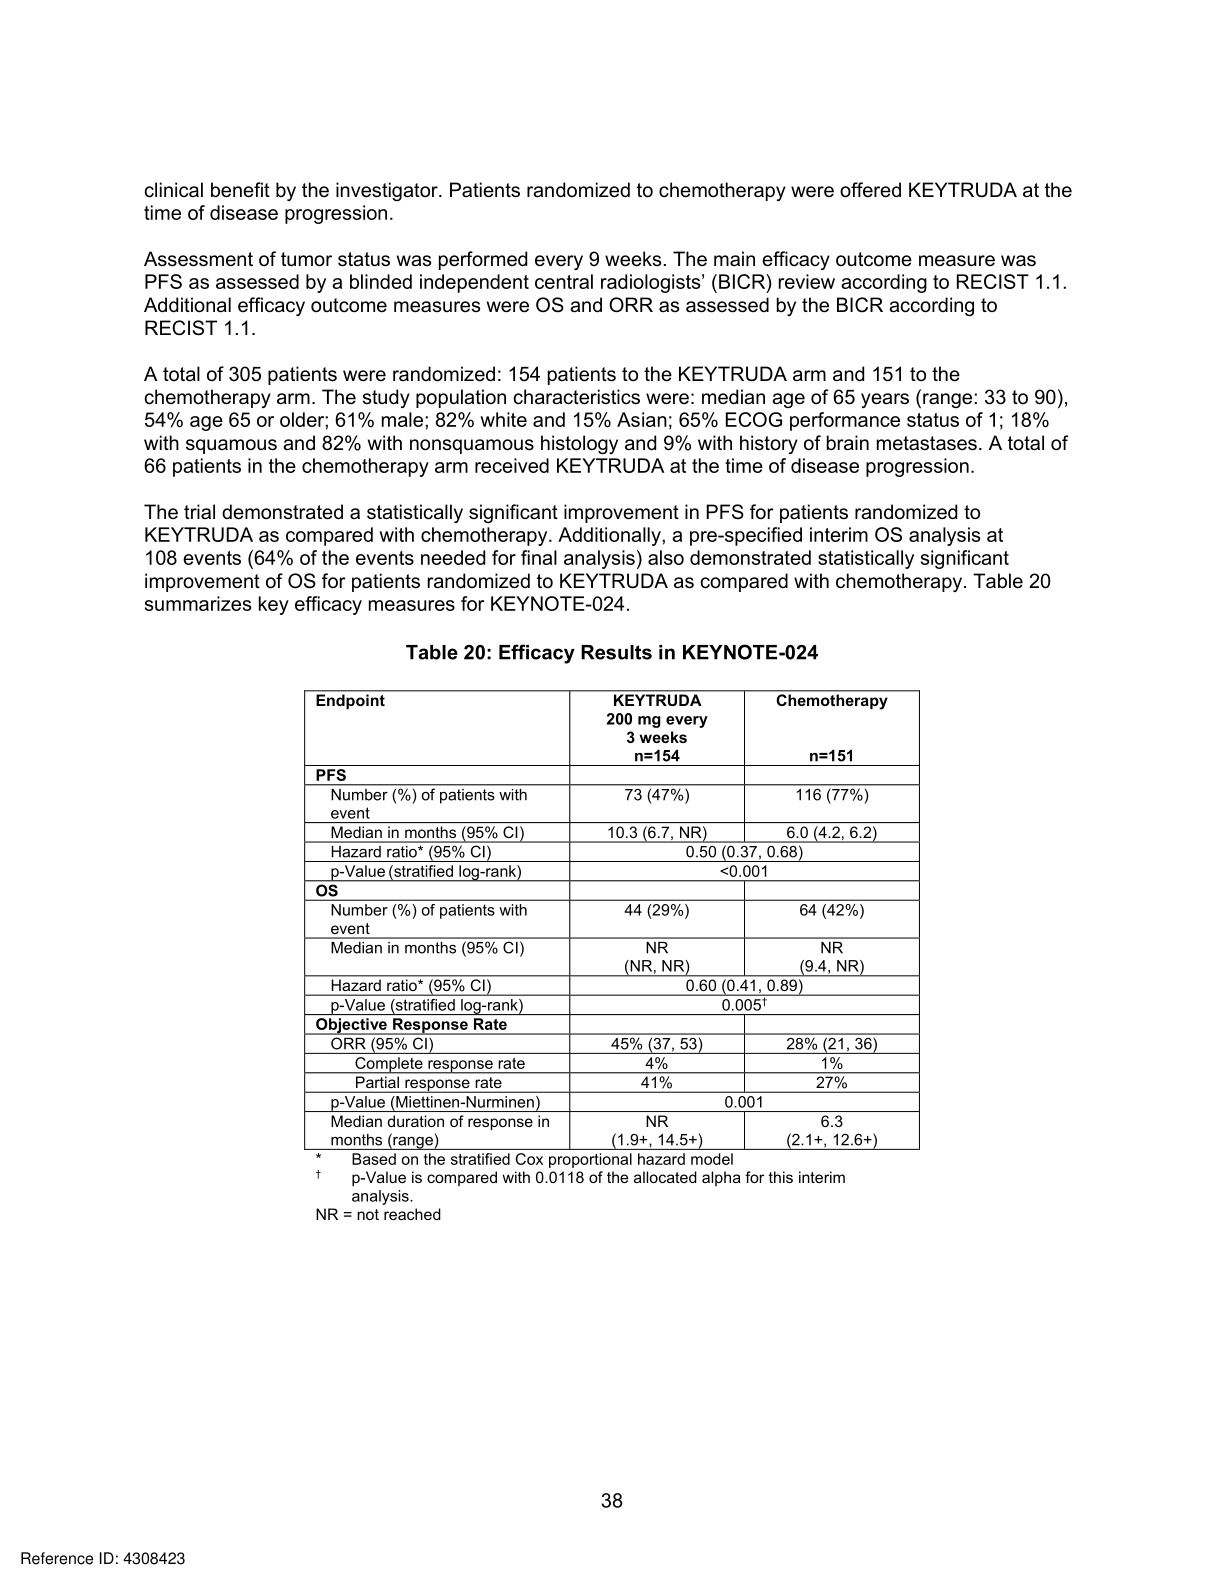merged_cells: (303, 689, 921, 1151)
